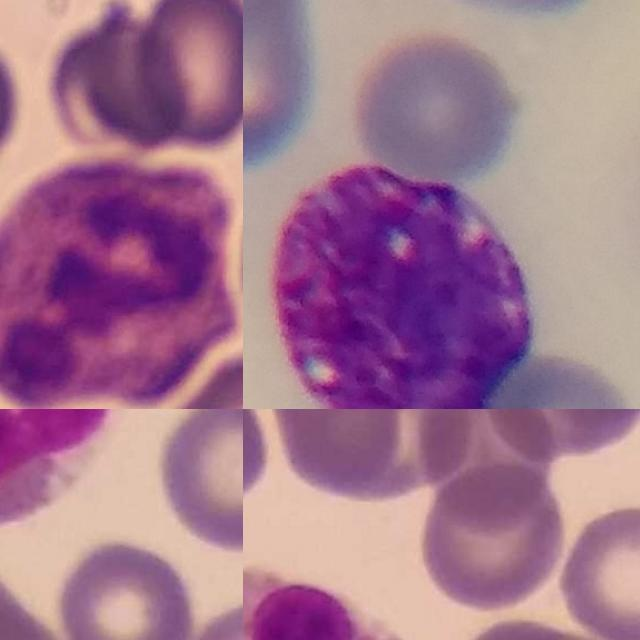Basophil: (271, 159, 530, 409)
Eosinophil: (243, 563, 456, 640), (0, 409, 137, 525)
Neutrophil: (0, 162, 237, 409)
